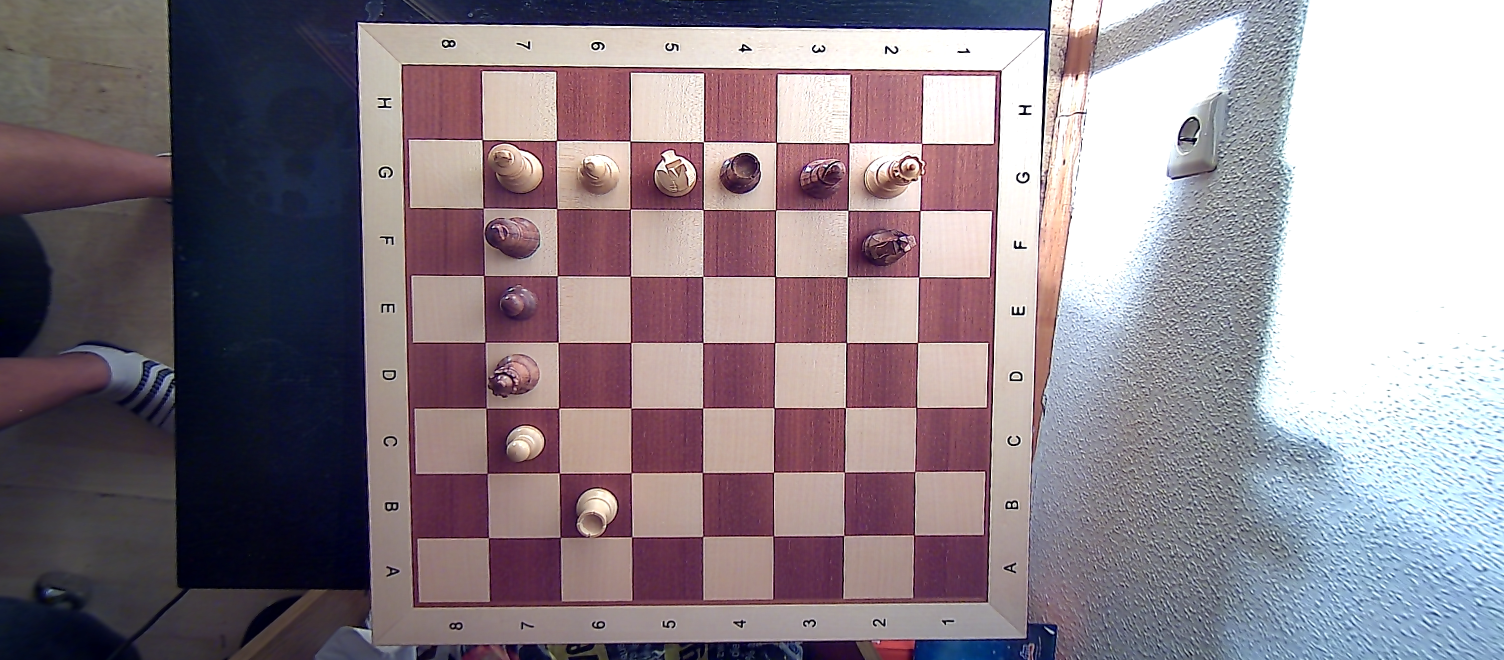black-bishop: (795, 156, 849, 201)
black-king: (483, 211, 547, 264)
black-knight: (855, 224, 919, 268)
black-pawn: (491, 281, 541, 330)
black-queen: (489, 349, 543, 400)
black-rook: (717, 147, 765, 200)
white-bishop: (573, 150, 623, 196)
white-king: (484, 139, 547, 193)
white-knight: (649, 147, 699, 204)
white-pawn: (499, 422, 547, 464)
white-queen: (861, 153, 925, 200)
white-rook: (568, 484, 622, 537)
